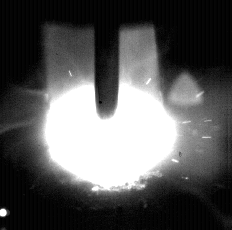arame: (95, 0, 120, 118)
poca: (44, 0, 178, 230)
